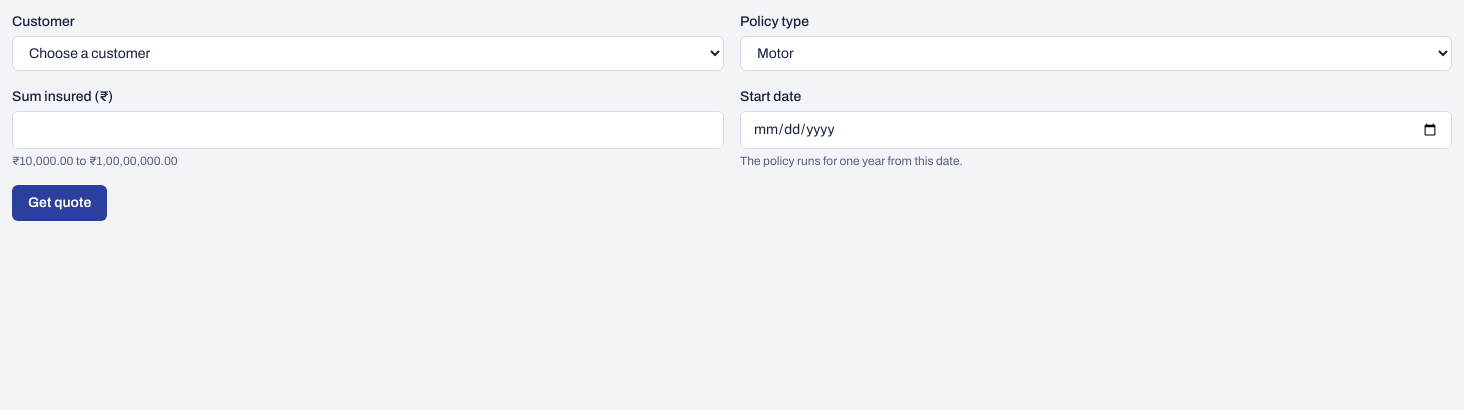
Scenario: PolicyForm quote and issue › drops the quote when a value changes, so a stale quote cannot be issued
Select "Nisha Rao" in the dropdown labelled "Customer" at (368, 54), box 12,36 -> 724,71
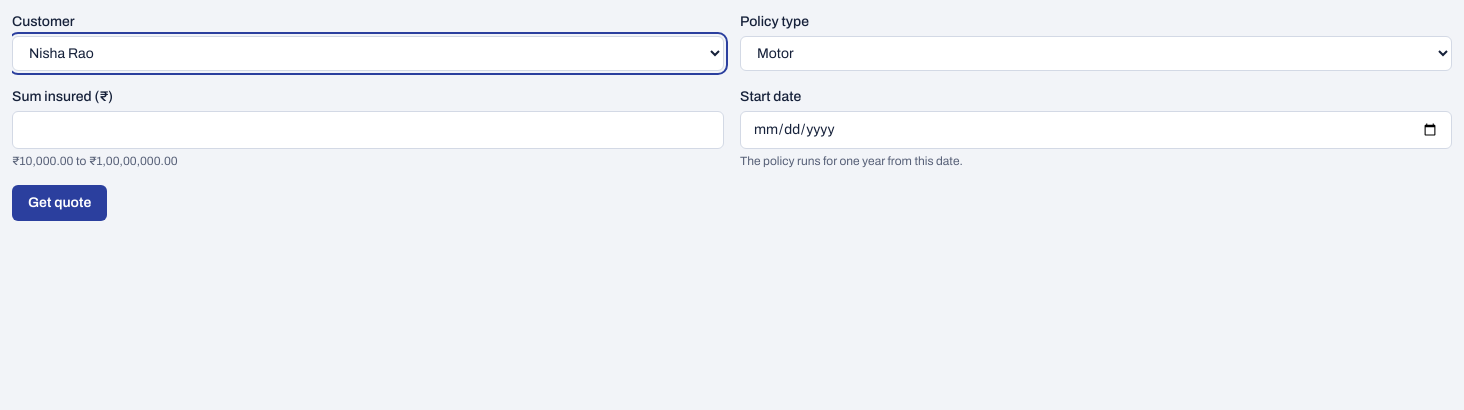
Select "Health" in the dropdown labelled "Policy type" at (1096, 54), box 740,36 -> 1452,71
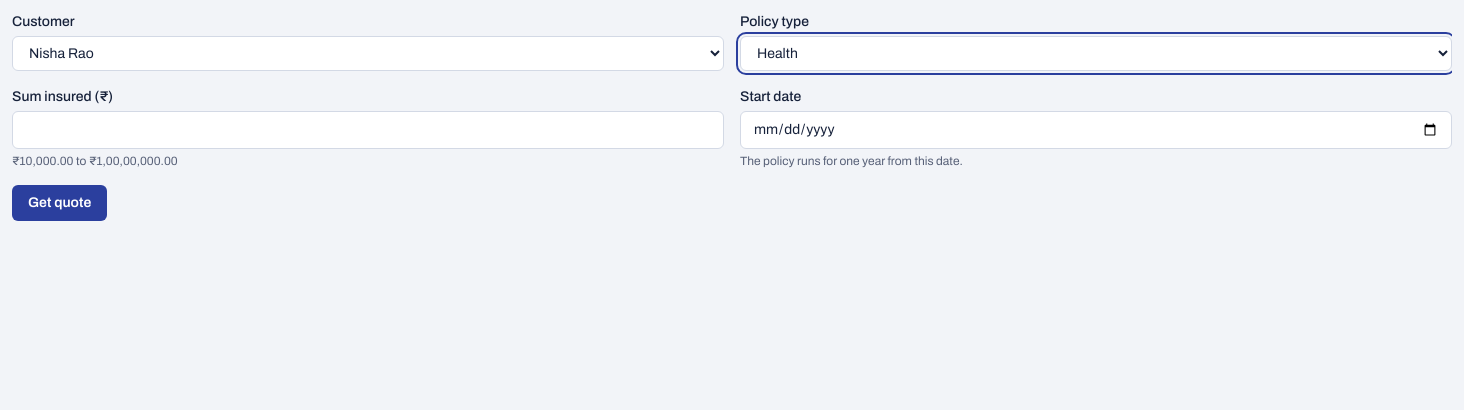
Type "500000" into the number field labelled "Sum insured (₹)" at (368, 130), box 12,111 -> 724,149
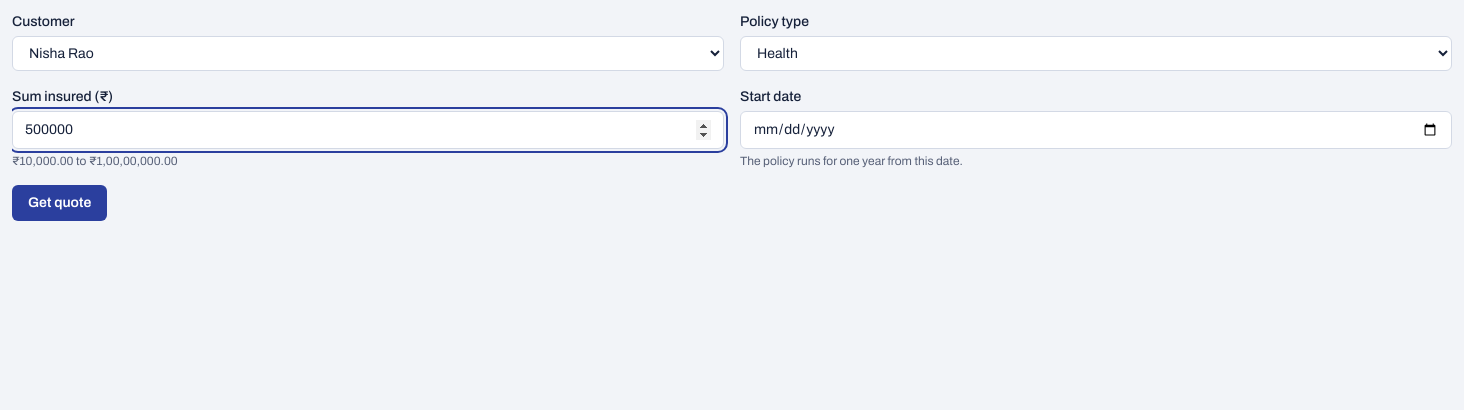
Type "2026-11-01" into the date field labelled "Start date" at (1096, 130), box 740,111 -> 1452,149
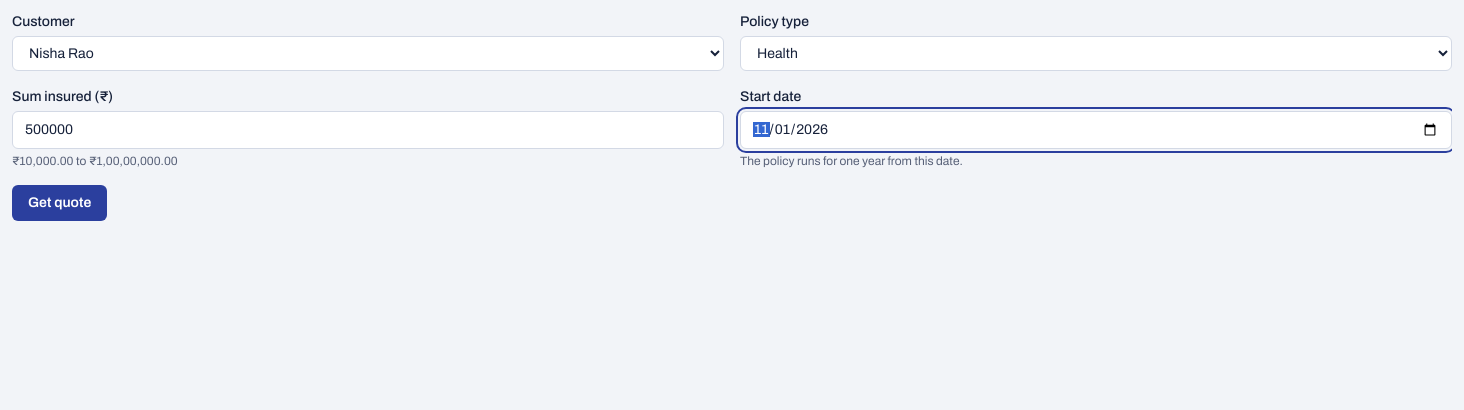
Click the button "Get quote" at (60, 203), box 12,185 -> 107,221
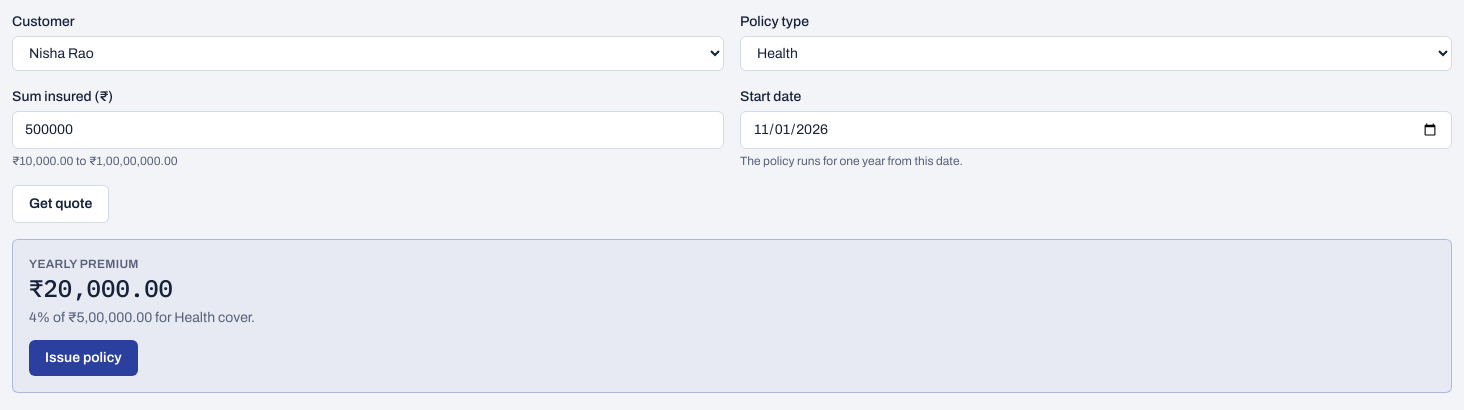
Expected: the element named "Quote" is shown, 12,239 -> 1452,393
Select "Home" in the dropdown labelled "Policy type" at (1096, 54), box 740,36 -> 1452,71
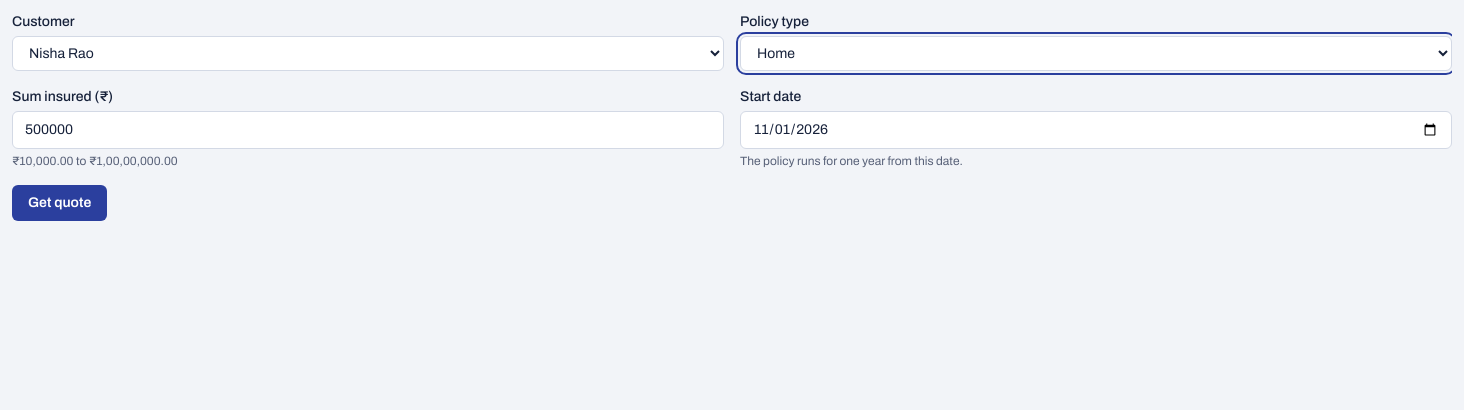
Expected: the button "Issue policy" is gone
